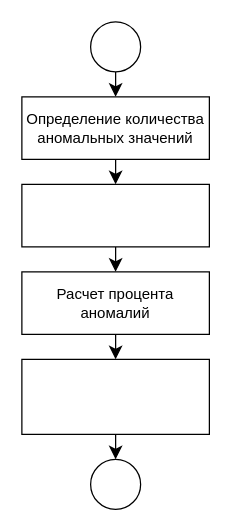
Some shapes in this 231 by 531 pixel diagram are drawn without their labels. The centre of each missing label's shape, as x and y in pixels:
Определение общего количества значений: the point at 115,215
Получение результирующего процента аномальных значений: the point at 115,396
